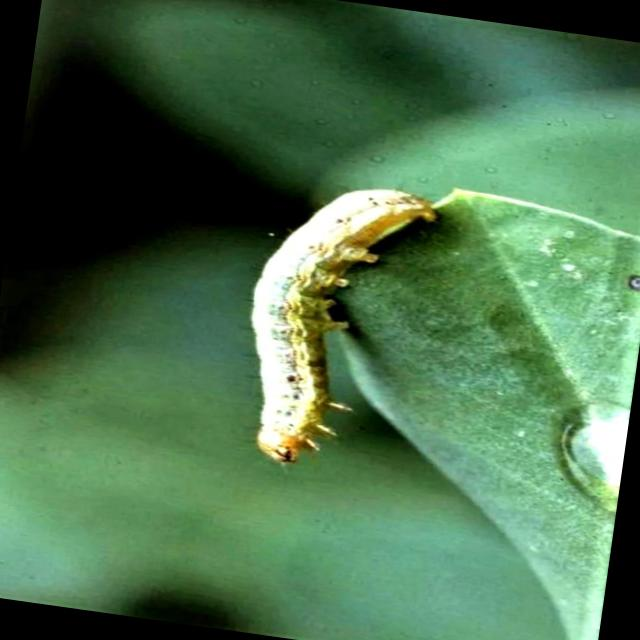Armyworm: (182, 161, 500, 503)
